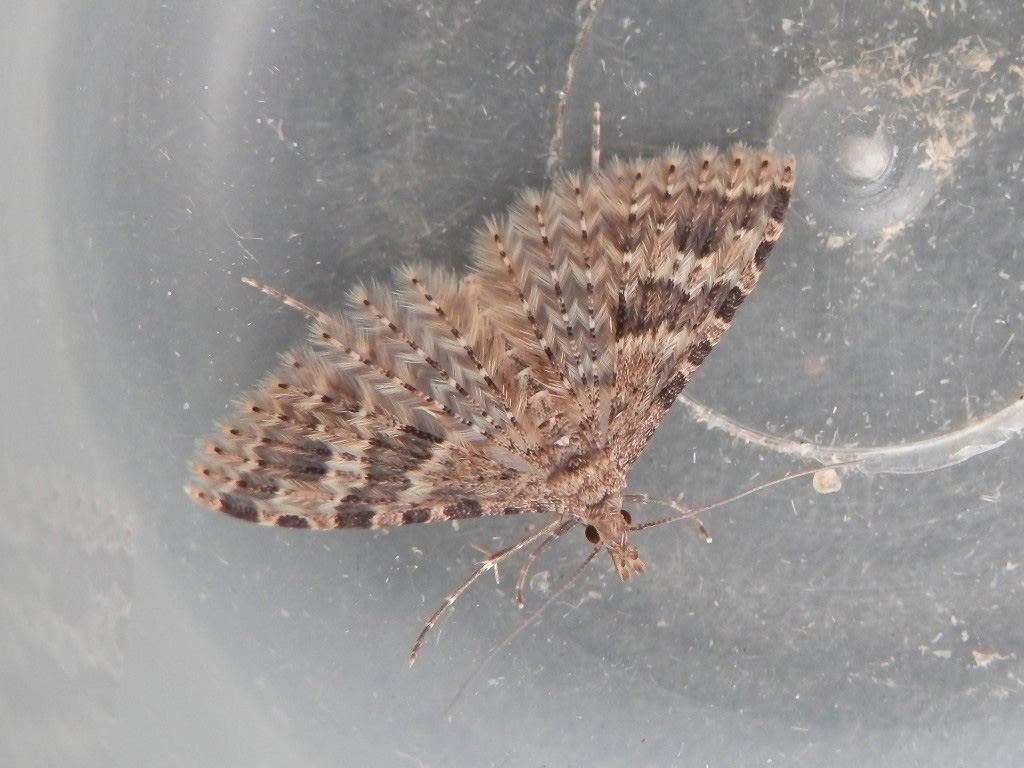Alucitidae: (182, 103, 868, 668)
moth: (184, 105, 870, 670)
